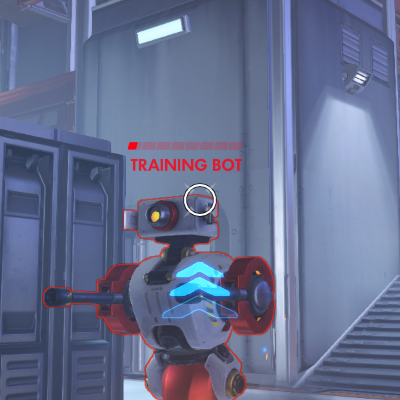hpbar: (127, 142, 243, 150)
